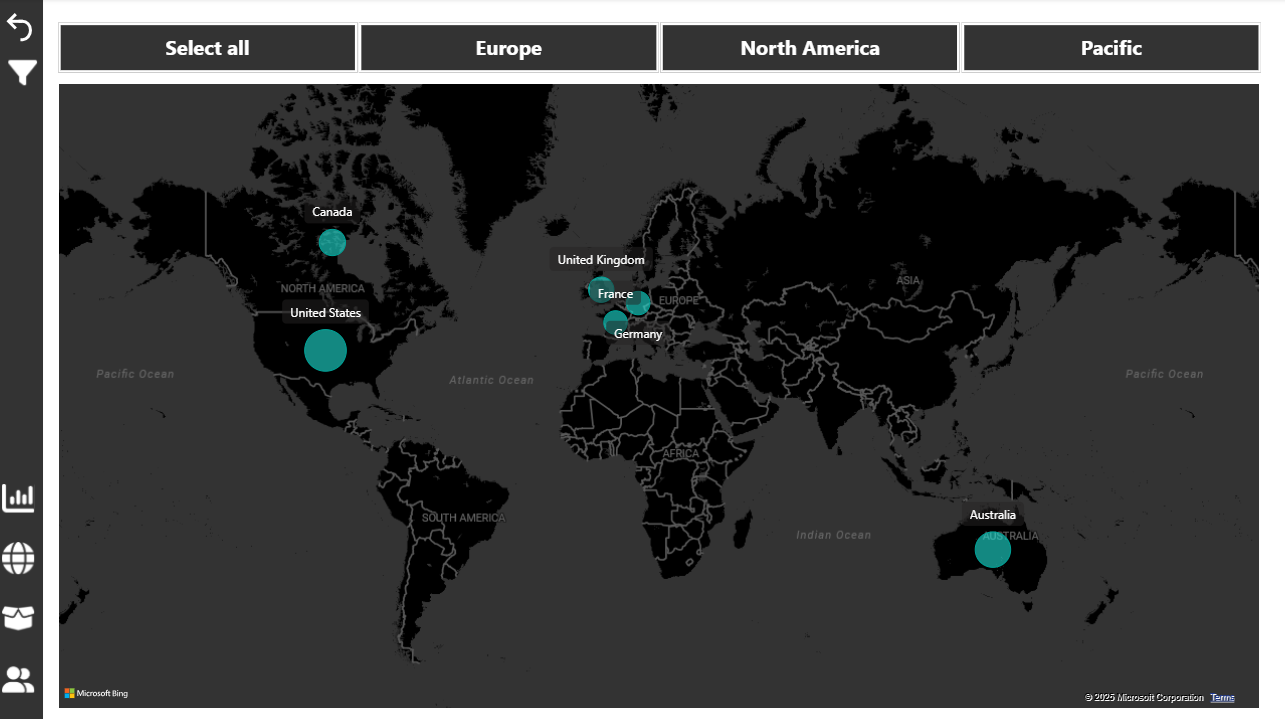

This screenshot's page, from the dashboard's own definition file:
{"tool":"powerbi","page":{"name":"Map","canvas":[1280,720],"ordinal":1},"visuals":[{"type":"shape","title":"Left Nav Background","box":[0,0,45,720],"z":0},{"type":"actionButton","box":[0.3,478.1,59.9,40.4],"z":0,"group":"g1"},{"type":"map","fields":{"Category":["Territory Lookup.Country"],"Size":["Measure Table.Total Orders"]},"box":[56.3,80.7,1204.5,631],"z":1000},{"type":"actionButton","box":[0.3,538,59.9,40.4],"z":1000,"group":"g1"},{"type":"slicer","fields":{"Values":["Territory Lookup.Continent"]},"box":[33,17.1,1247.3,63.6],"z":2000},{"type":"actionButton","box":[0.3,597.9,59.9,40.4],"z":2000,"group":"g1"},{"type":"group","id":"g1","title":"Navigation Bar","box":[0.3,478.1,59.9,220.1],"z":3000},{"type":"actionButton","box":[0.3,657.9,59.9,40.4],"z":3000,"group":"g1"},{"type":"actionButton","box":[2.4,9.8,55,37.9],"z":3001},{"type":"actionButton","box":[6.1,56.3,55,36.7],"z":3002}]}

Visuals, with their boxes on the page's 1280x720 design canvas (x1, y1, x2, y2). These are canvas units, not pixel positions in the 1285x719 screenshot, which may show the page scaled, cropped or inside an application window:
"Left Nav Background" shape: <bbox>0, 0, 45, 720</bbox>
actionButton: <bbox>0, 478, 60, 518</bbox>
map - Territory Lookup.Country x Measure Table.Total Orders: <bbox>56, 81, 1261, 712</bbox>
actionButton: <bbox>0, 538, 60, 578</bbox>
slicer - Territory Lookup.Continent: <bbox>33, 17, 1280, 81</bbox>
actionButton: <bbox>0, 598, 60, 638</bbox>
"Navigation Bar" group: <bbox>0, 478, 60, 698</bbox>
actionButton: <bbox>0, 658, 60, 698</bbox>
actionButton: <bbox>2, 10, 57, 48</bbox>
actionButton: <bbox>6, 56, 61, 93</bbox>
